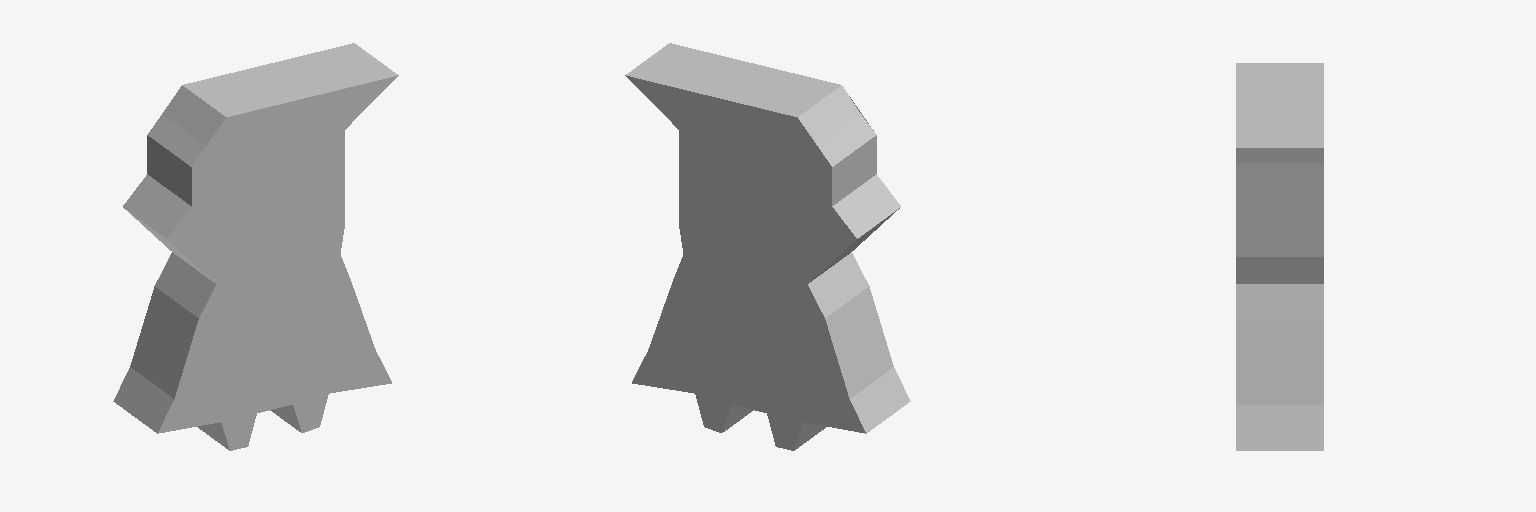
File: BigWorker.obj
3 renders of one model, left to right at view 1: azimuth 30°, elevation 25°; view 2: azimuth 150°, elevation 25°; view 3: azimuth 270°, elevation 25°, orthographic.
Parts seen in each view (by area): view 1: Grid; view 2: Grid; view 3: Grid.
Part boxes in pixels (x1,y1,x2,y2): Grid: (113, 43, 398, 450); Grid: (625, 43, 910, 450); Grid: (1236, 63, 1323, 450).
Size of the model in its own units: 1.49 by 1.98 by 0.4747.